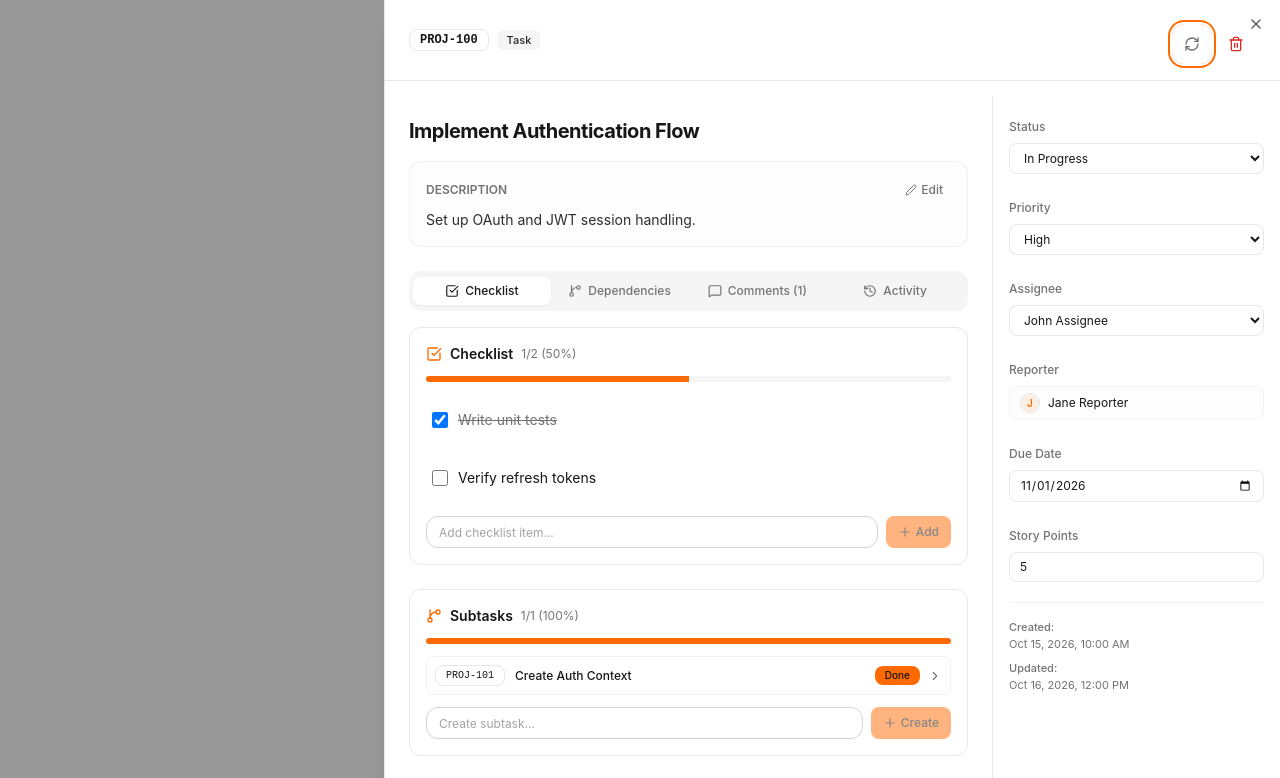
TaskDetailSheet › displays circular hierarchy error when setting a cyclical predecessor
The image size is (1280, 778).
Expected: the text "PROJ-100" is shown, [409,29,489,51]
Click the tab "Dependencies": [620, 291] box [551,277,689,305]
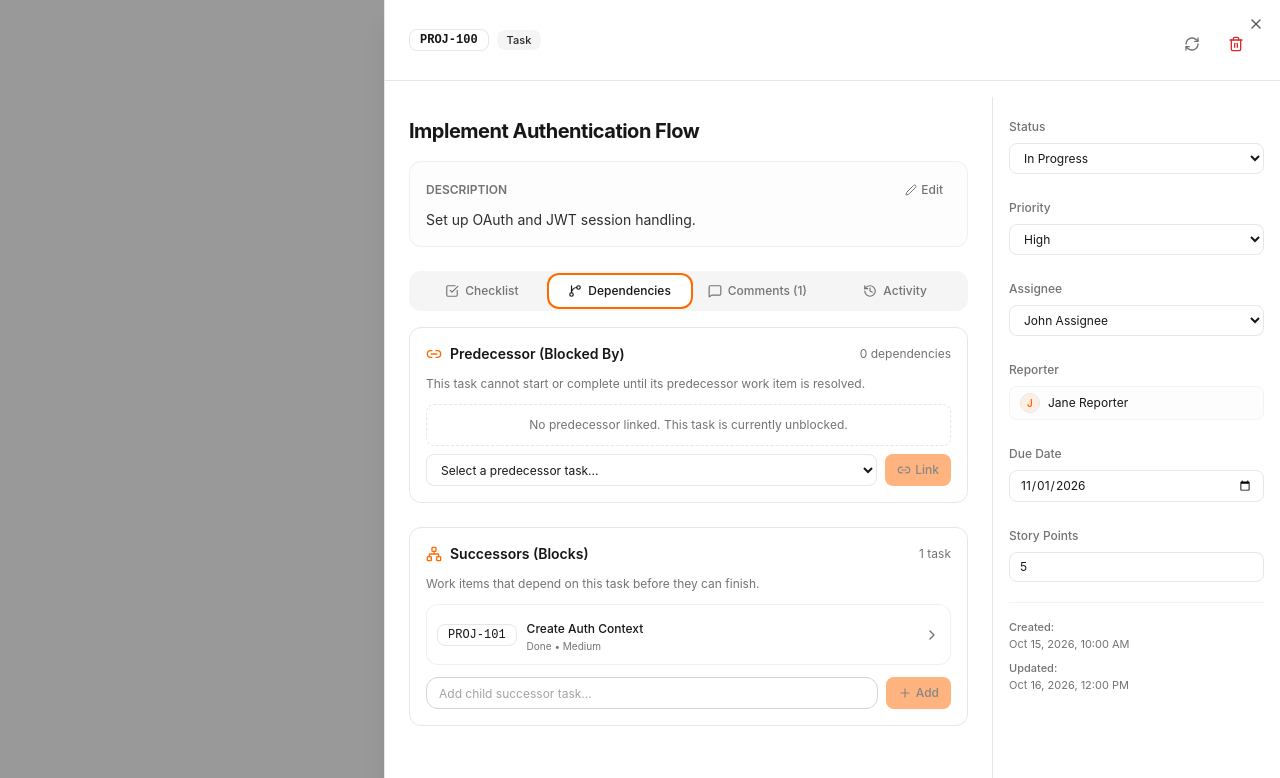
Select "[PROJ-300] Circular Child (todo)" in the dropdown named "Select predecessor task": [652, 470] box [426,454,877,486]
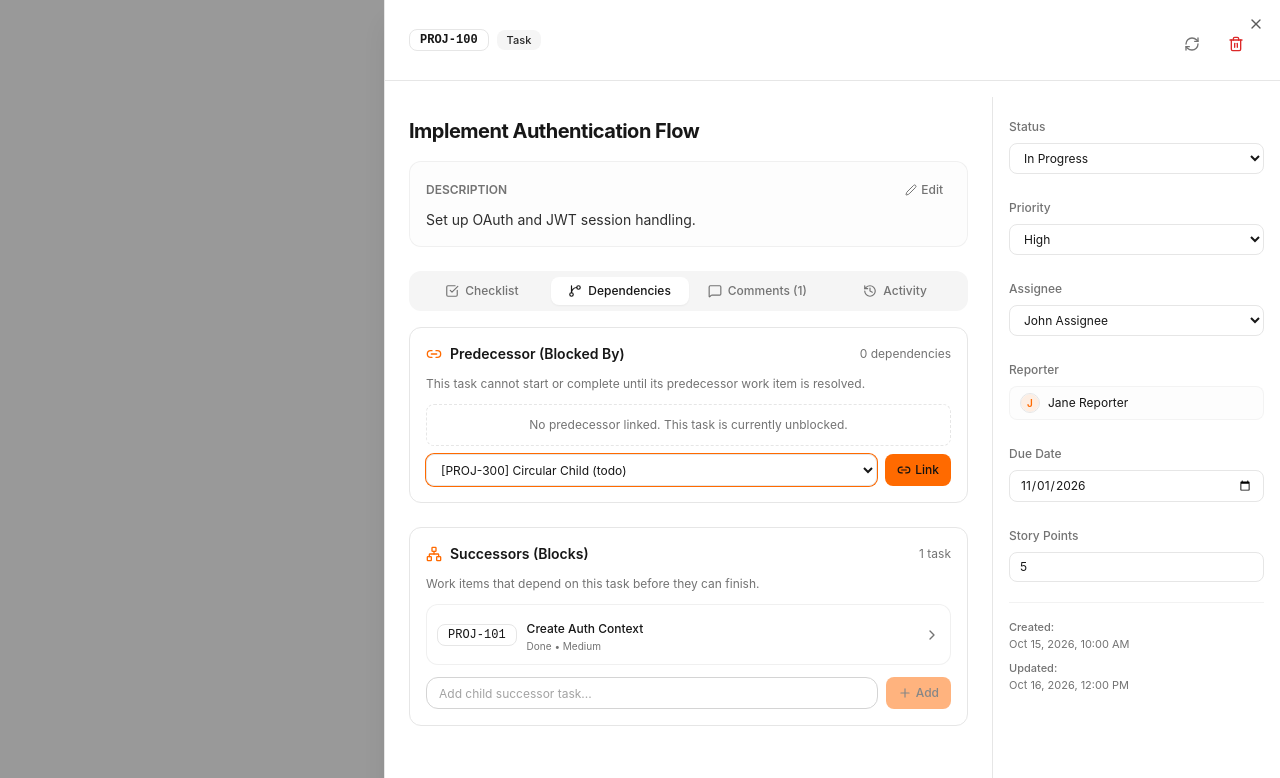
Click the button "Link": [918, 470] box [885,454,951,486]
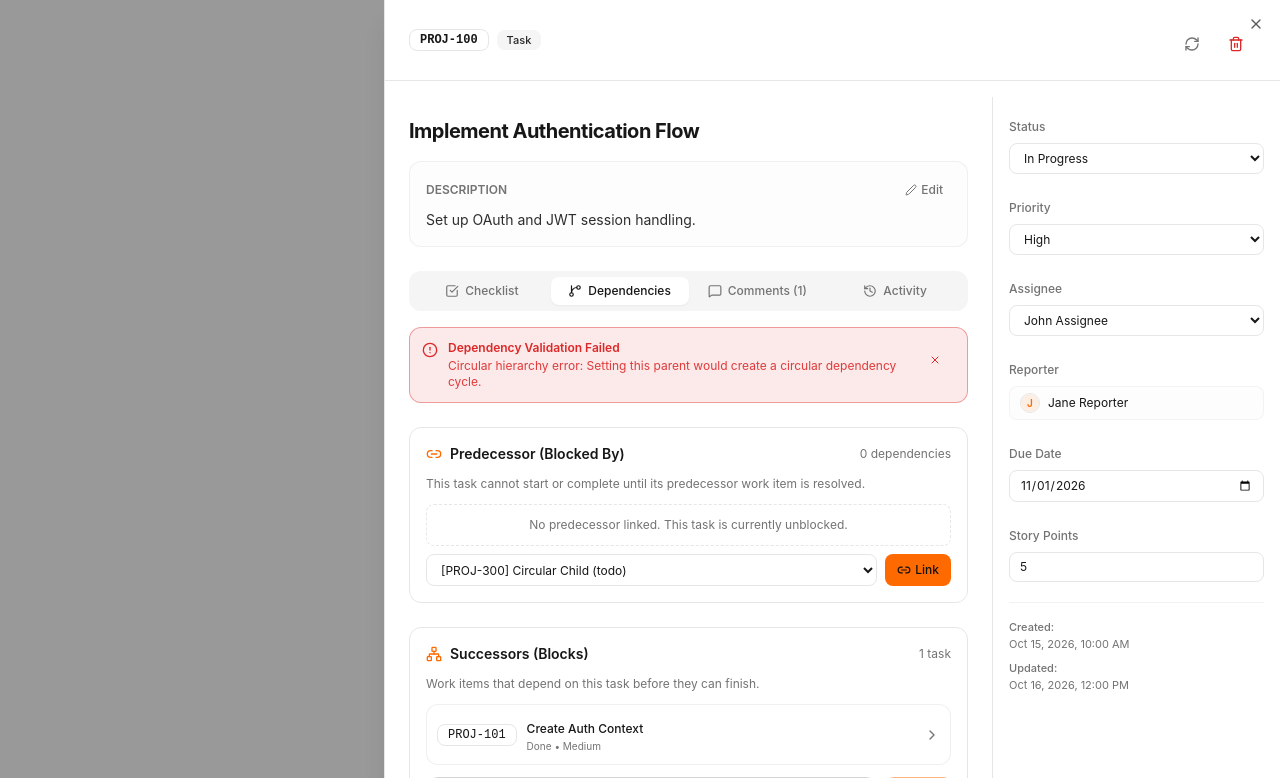
Now the text "Dependency Validation Failed" is shown, box [448,340,620,355]
Now the text "Circular hierarchy error: Setting this parent would create a circular dependency cycle" is shown, box [448,358,896,389]
